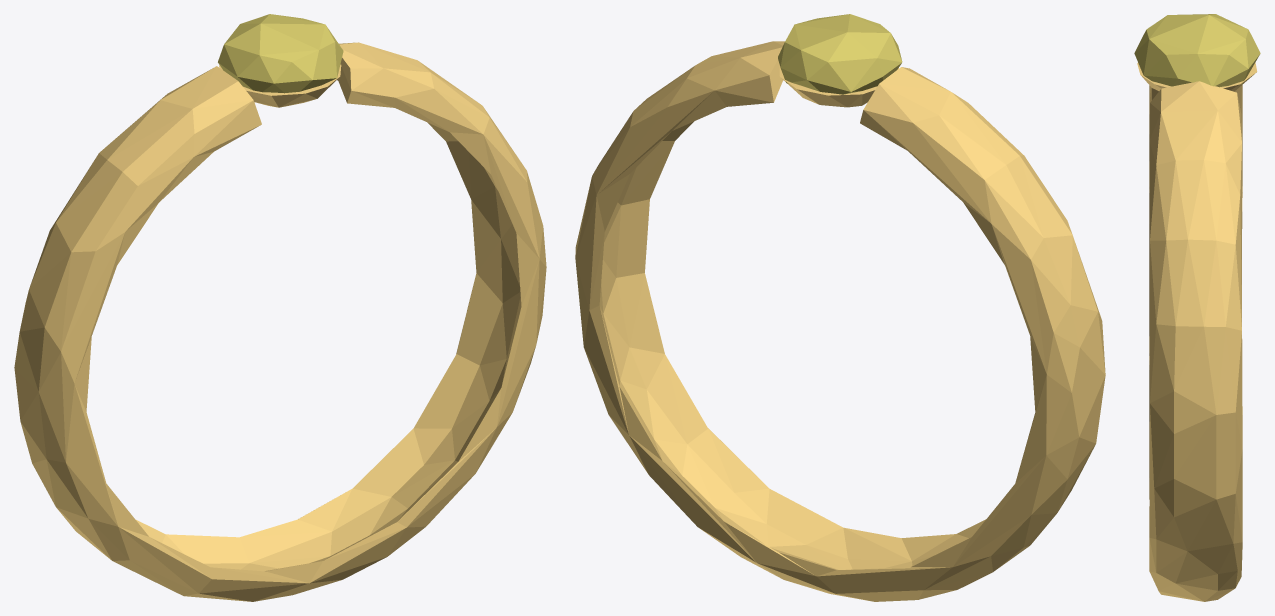
The picture shows the model from 3 angles, left to right: view 1: azimuth 30°, elevation 25°; view 2: azimuth 150°, elevation 25°; view 3: azimuth 270°, elevation 25°; orthographic projection.
Visible parts, largest first — view 1: 1; view 2: 1; view 3: 1.
Boxes of the visible parts, <box> form: 1: <box>14,14,546,601</box>; 1: <box>575,14,1105,601</box>; 1: <box>1134,14,1260,601</box>.
Bounding box in the file's own units: 242 × 256 × 53.05.
